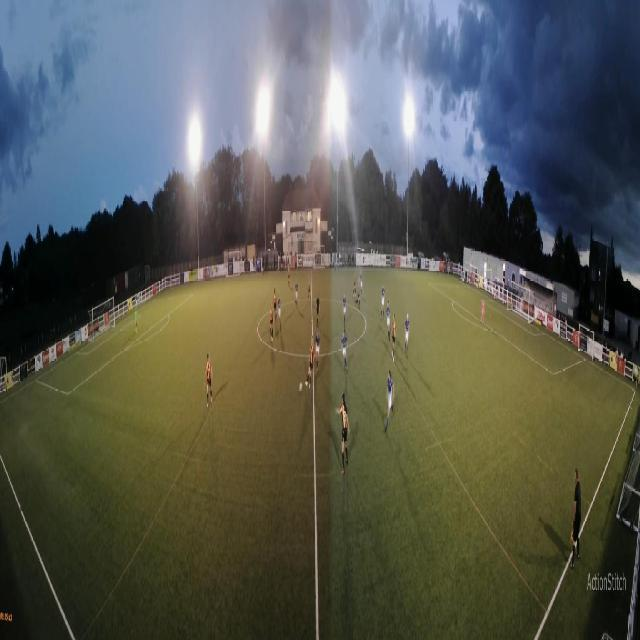ball: (299, 382, 303, 392)
player: (335, 392, 350, 476), (385, 368, 395, 434), (305, 336, 316, 391), (204, 353, 213, 409), (340, 329, 348, 374), (391, 313, 397, 363), (404, 313, 410, 359), (385, 300, 391, 342), (315, 328, 320, 373), (315, 293, 321, 329), (380, 283, 385, 322), (342, 291, 347, 328), (355, 277, 360, 311), (270, 302, 274, 342), (278, 293, 282, 331), (273, 288, 277, 323), (480, 298, 485, 325), (353, 269, 357, 299), (295, 281, 299, 310), (134, 306, 138, 334), (307, 276, 311, 303), (360, 270, 363, 297), (288, 263, 291, 288)
